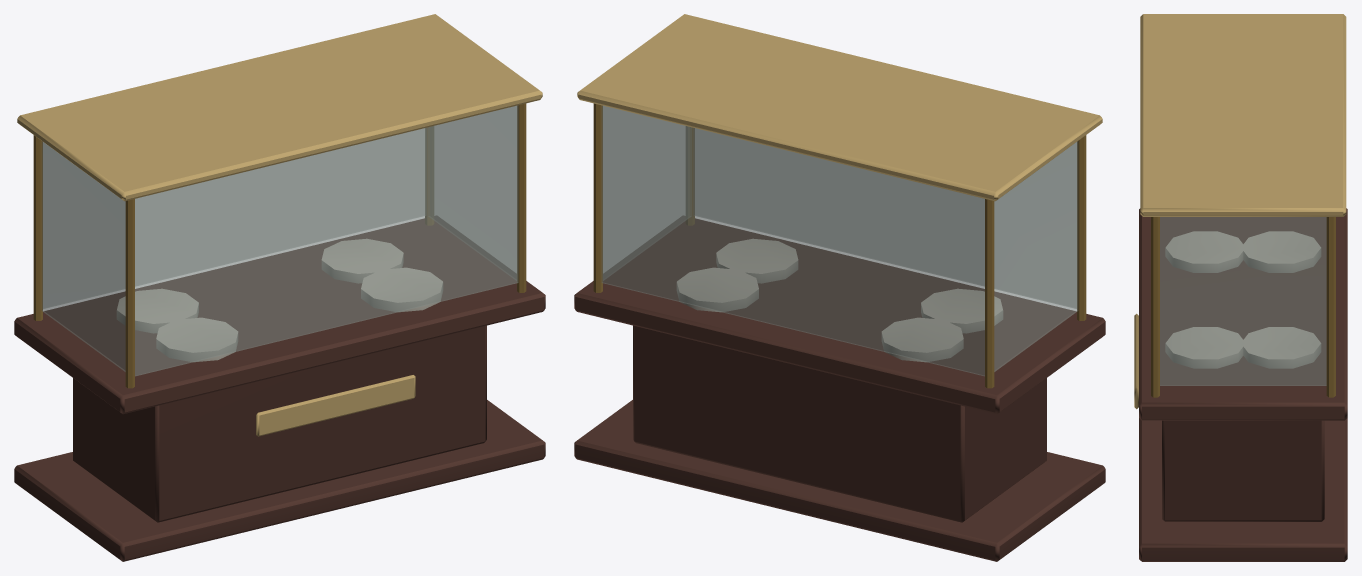
File: case_curio.glb
The picture shows the model from 3 angles, left to right: view 1: azimuth 30°, elevation 25°; view 2: azimuth 150°, elevation 25°; view 3: azimuth 270°, elevation 25°; orthographic projection. The views are drawn at different scales.
Parts seen in each view (by area): view 1: case_curio, Glass; view 2: case_curio, Glass; view 3: case_curio, Glass.
Boxes of the visible parts, left/top/right/bottom form: case_curio: left=14, top=14, right=545, bottom=561; Glass: left=42, top=105, right=518, bottom=376; case_curio: left=574, top=14, right=1105, bottom=561; Glass: left=601, top=105, right=1077, bottom=376; case_curio: left=1134, top=14, right=1347, bottom=561; Glass: left=1160, top=217, right=1326, bottom=385.
Size of the model in its own units: 1.87 by 1.55 by 0.849.
